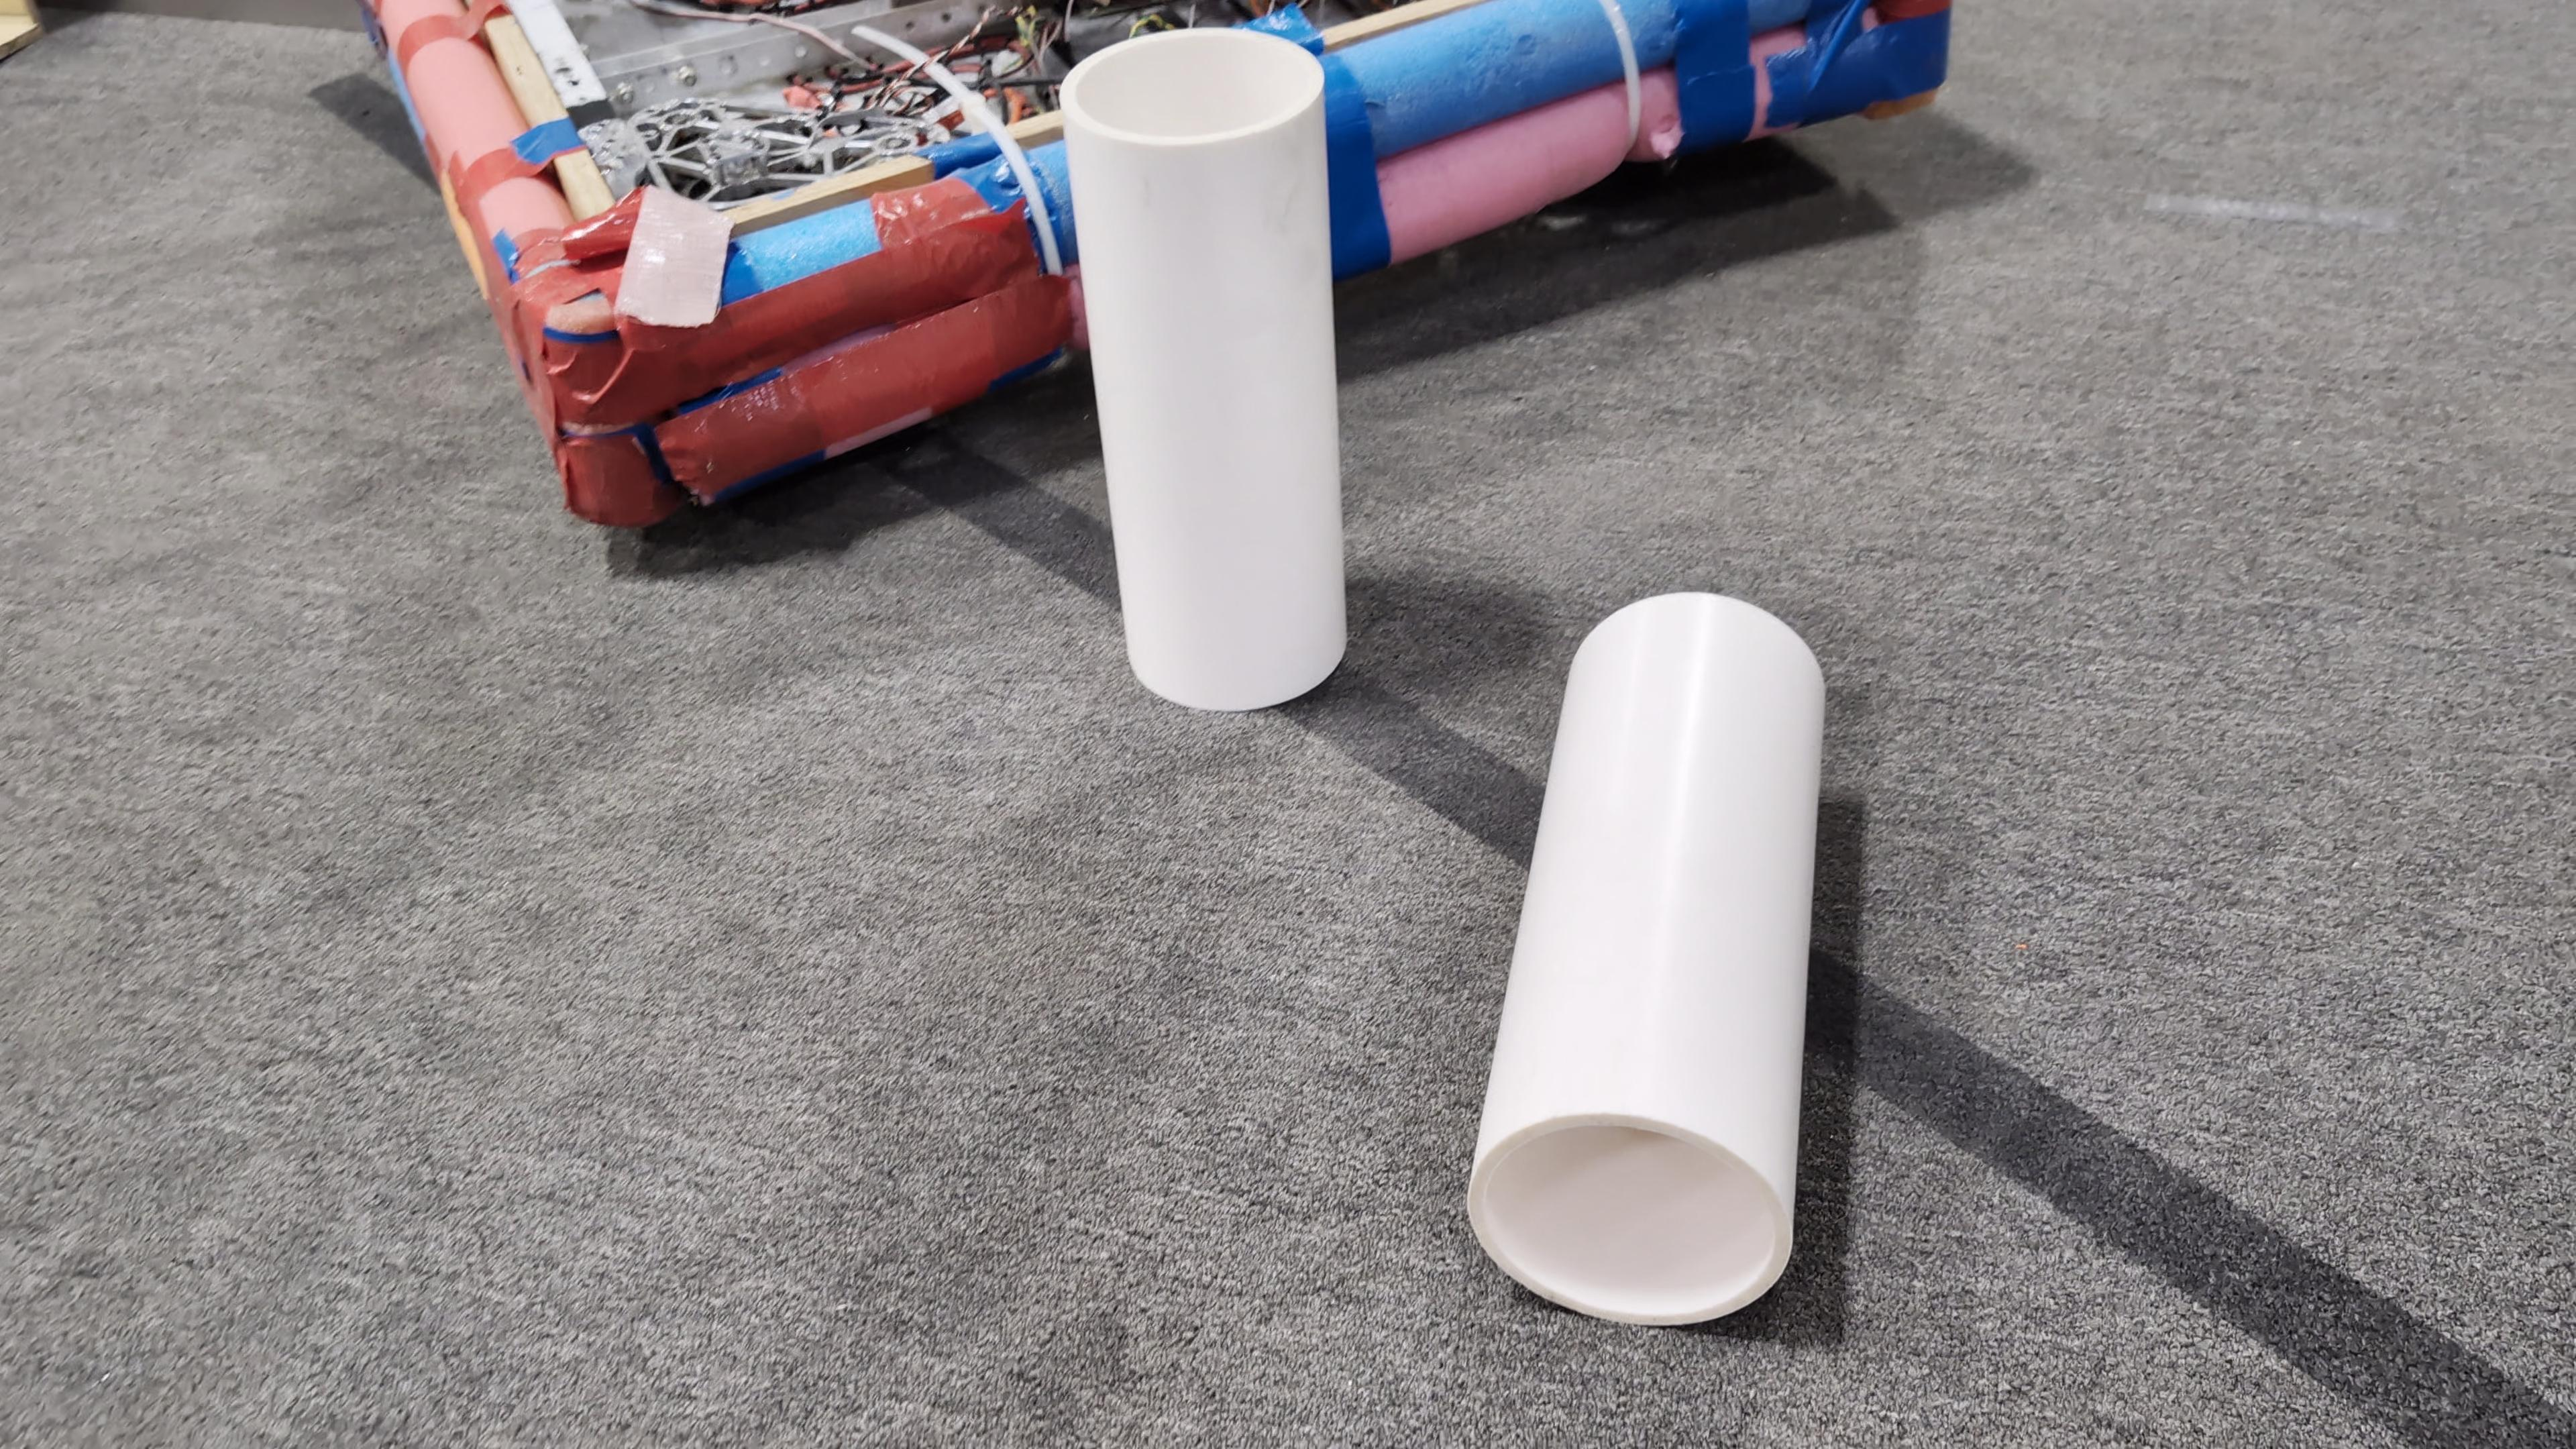coral: (1465, 587, 1829, 1323), (1058, 25, 1352, 713)
